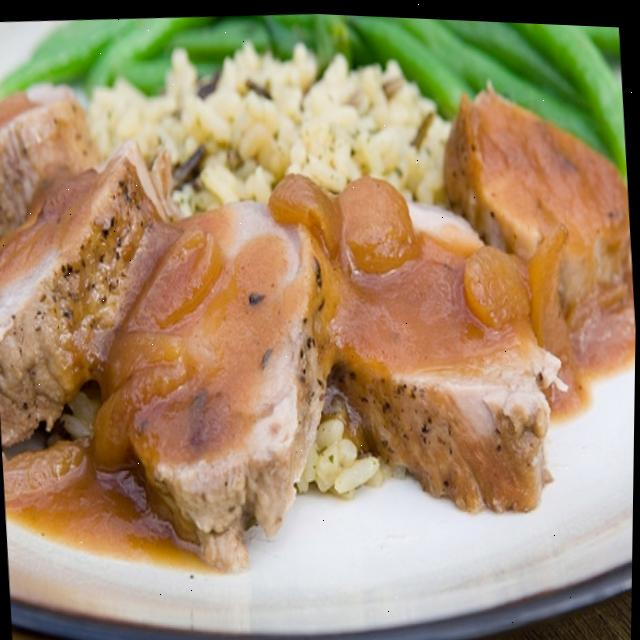猪肉菜式: (0, 0, 640, 614)
